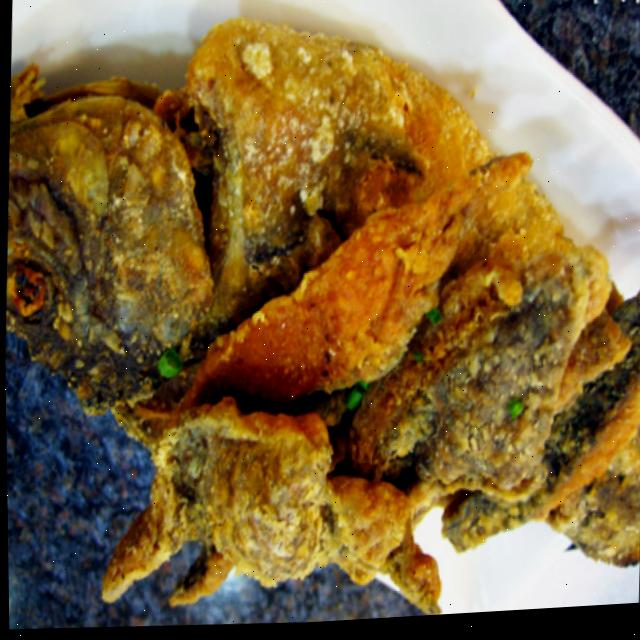炸货点心: (1, 22, 640, 640)
熟制海鲜: (1, 22, 640, 640)
